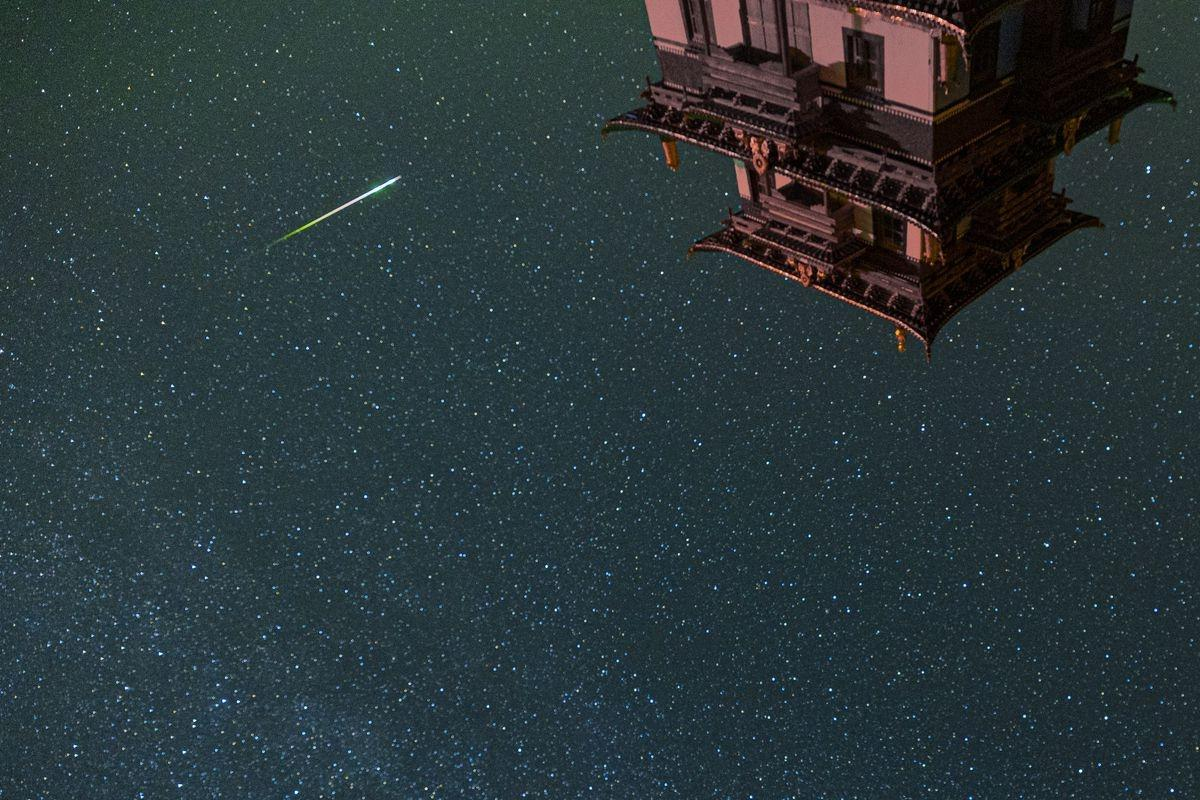meteorite: (244, 164, 432, 256)
